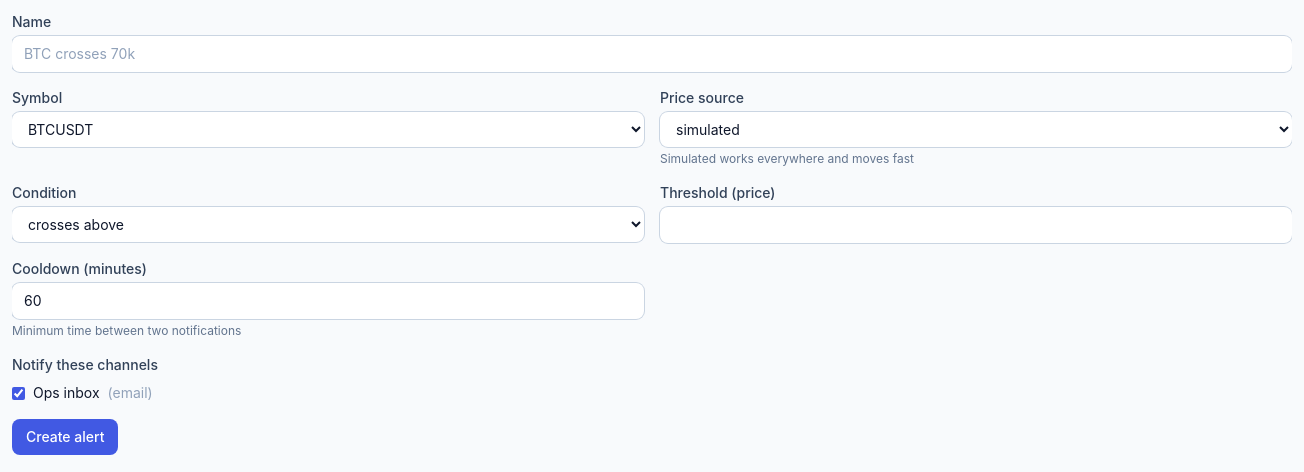
Test case: AlertForm › shows the window field only for pct_move
The image size is (1304, 472).
Expected: the field labelled "Window (minutes)" is not shown
Expected: the number field labelled "Threshold (price)" is shown, [660,207,1292,243]
Step 1. Select "moves by" in the dropdown labelled "Condition" → [328, 224], box [12,207,644,242]
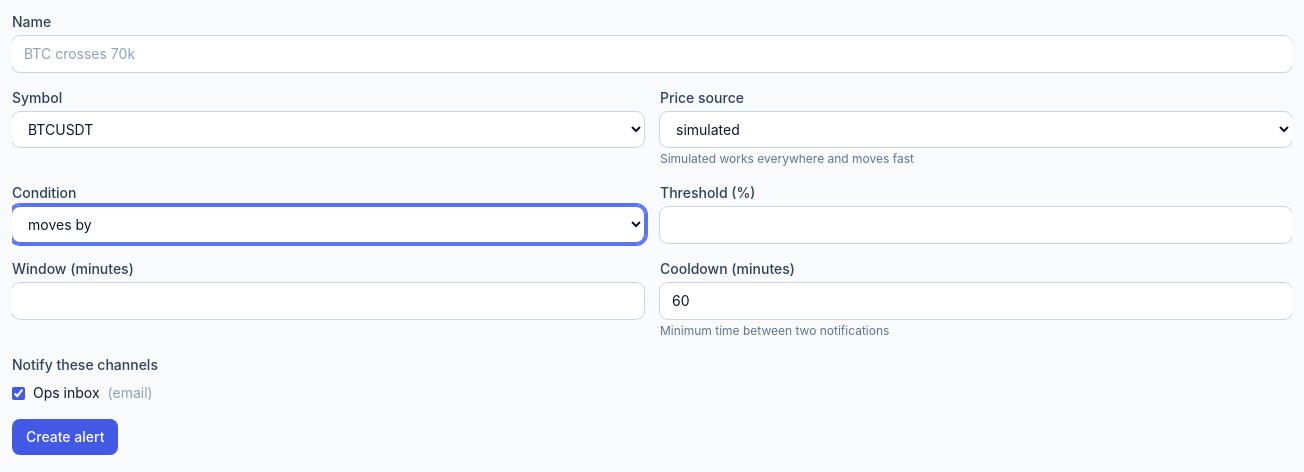
Expected: the number field labelled "Threshold (%)" is shown, [660,207,1292,243]
Expected: the number field labelled "Window (minutes)" is shown, [12,283,644,319]
